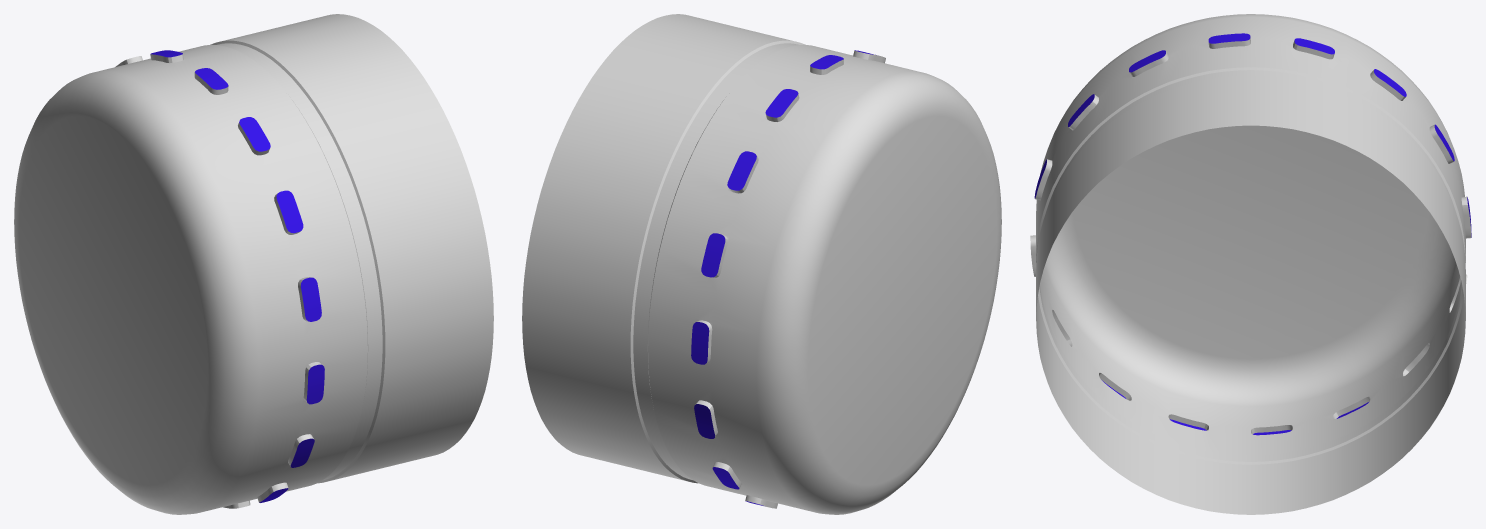
The model's file is FBX_WasherDryer.fbx.
3 views of the same model, side by side, from view 1: azimuth 30°, elevation 25°; view 2: azimuth 150°, elevation 25°; view 3: azimuth 270°, elevation 25° (orthographic). The views are drawn at different scales.
Visible parts, largest first — view 1: WasherDryer; view 2: WasherDryer; view 3: WasherDryer.
Part boxes in pixels (x1,y1,x2,y2): WasherDryer: (14,14,493,514); WasherDryer: (522,14,1001,514); WasherDryer: (1030,14,1471,514).
Size of the model in its own units: 51.29 by 77.38 by 77.38.
